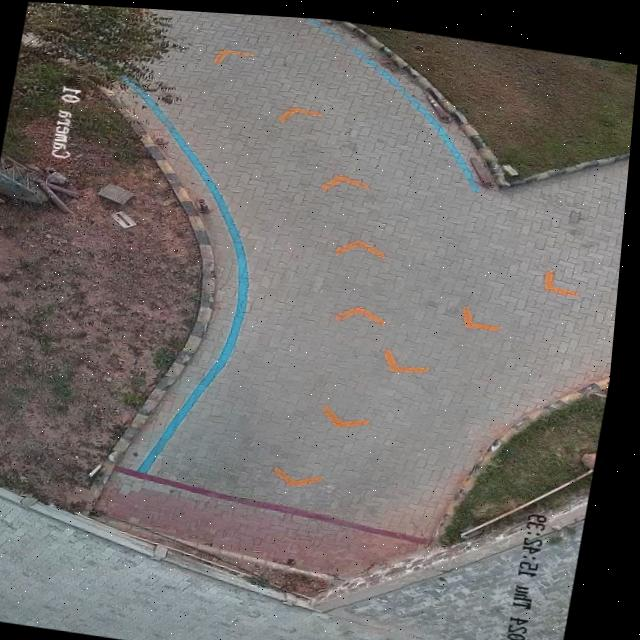No Car: (0, 1, 638, 640)
